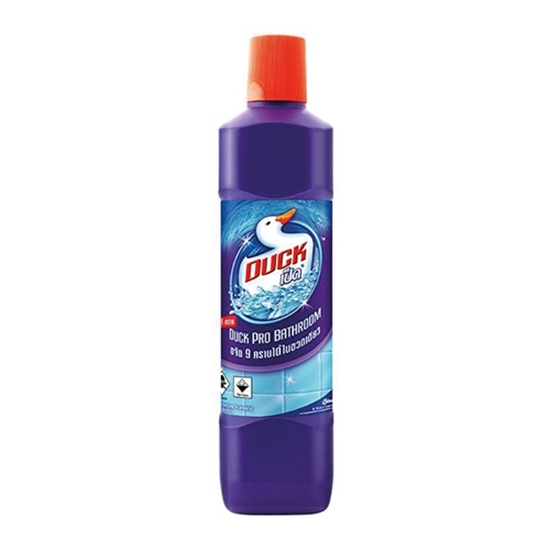Cleaning_solution: (214, 32, 339, 519)
